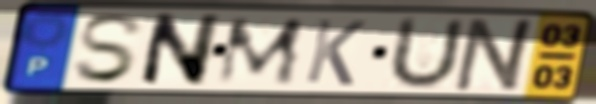K: (301, 17, 369, 89)
M: (212, 15, 308, 87)
N: (448, 16, 542, 94), (135, 11, 225, 88)
S: (70, 12, 148, 86)
U: (382, 15, 468, 92)
